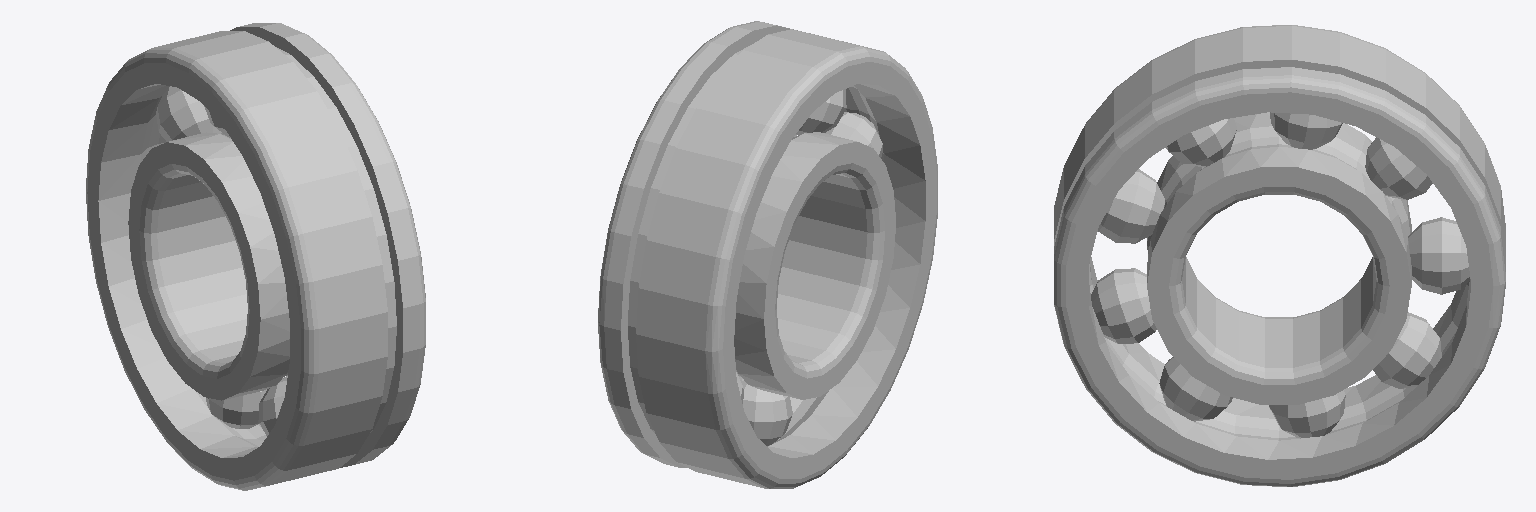
The model's file is Podshipnik.obj.
3 views of the same model, side by side, from view 1: azimuth 30°, elevation 25°; view 2: azimuth 150°, elevation 25°; view 3: azimuth 270°, elevation 25° (orthographic).
Parts seen in each view (by area): view 1: Подшипник; view 2: Подшипник; view 3: Подшипник.
Boxes of the visible parts, <box> form: Подшипник: <box>86,23,425,490</box>; Подшипник: <box>598,21,937,488</box>; Подшипник: <box>1054,25,1505,486</box>.
Bounding box in the file's own units: 11 × 34.95 × 34.9.